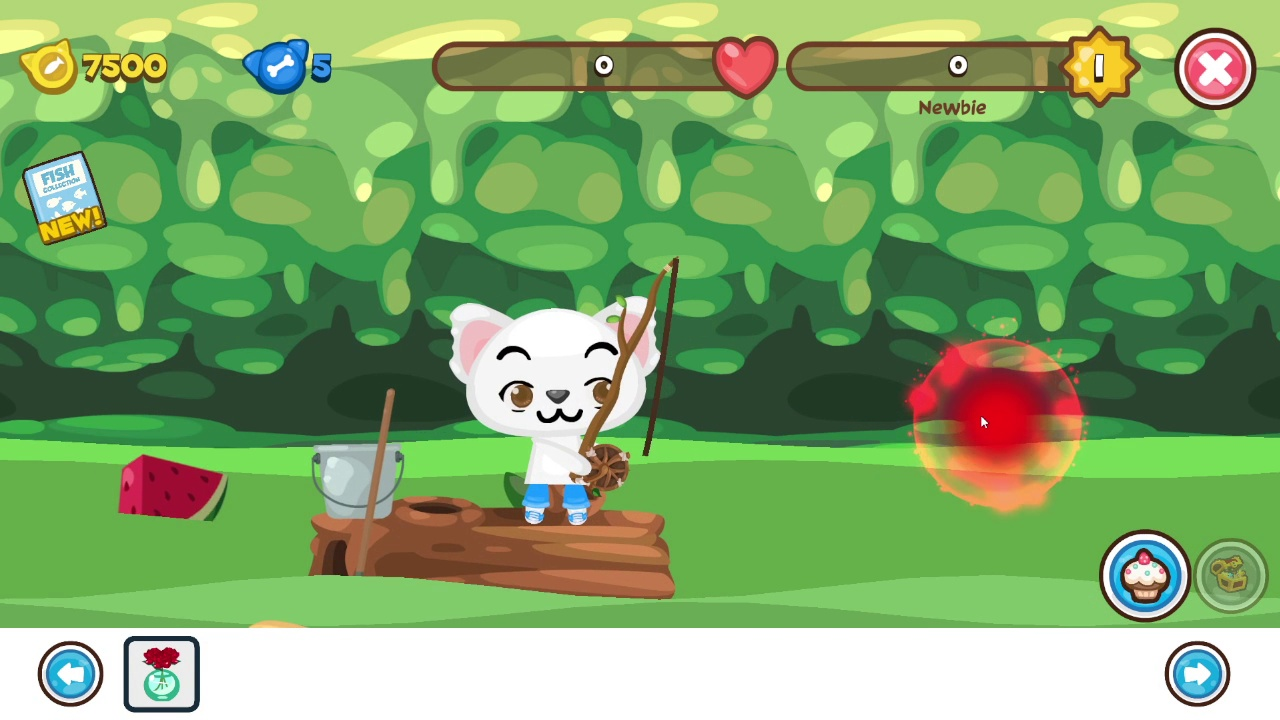point: (911, 336, 1083, 511)
